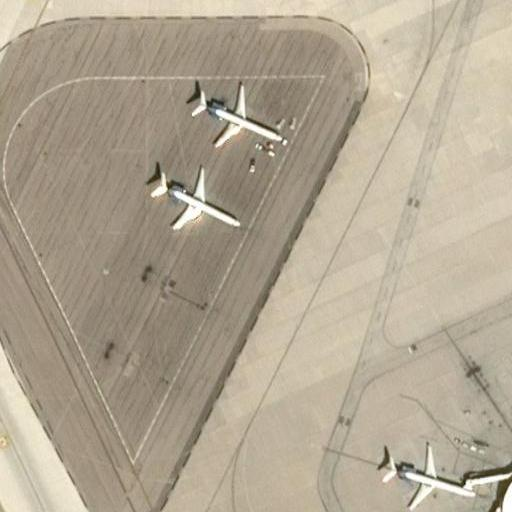Aircraft: (143, 158, 243, 231), (372, 439, 477, 507), (183, 81, 287, 149)
